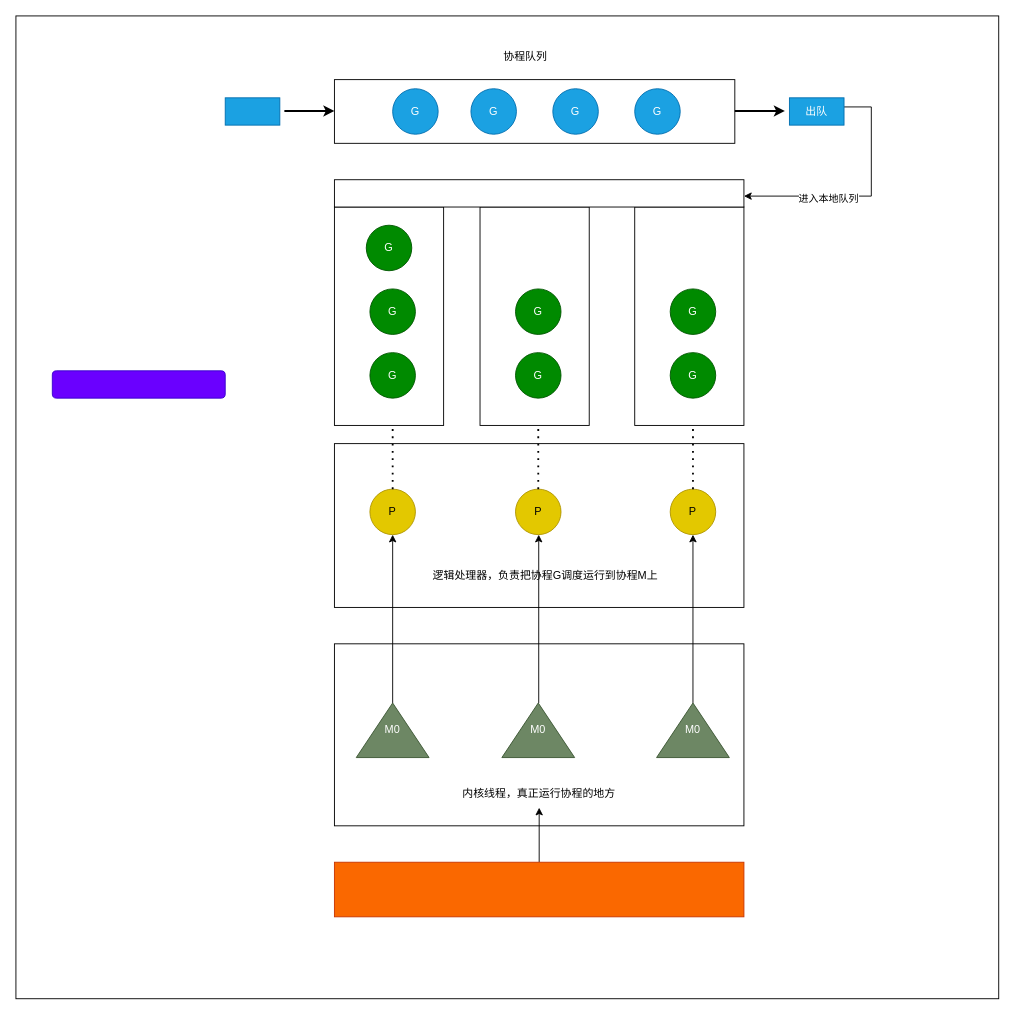
The diagram is 1015 pixels wide and 1015 high, and some of its shapes have lost their labels. The box of each missing label's shape, as (x1, y1, x2, y2) in pixels:
Goroutine调度器: (51, 370, 225, 398)
P本地运行队列，最多256个，协程进来优先进入P队列，满了就去协程队列: (334, 179, 744, 207)
操作系统调度器: (334, 861, 744, 917)
进入: (224, 97, 280, 125)
